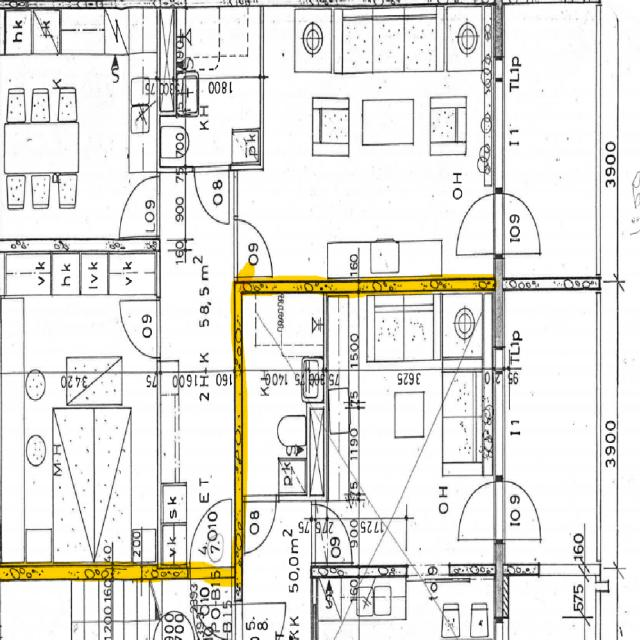door: (189, 497, 232, 578), (189, 564, 232, 640), (493, 192, 544, 254), (453, 192, 504, 254), (119, 299, 161, 358), (119, 177, 161, 236), (234, 220, 274, 276), (194, 165, 228, 227)
